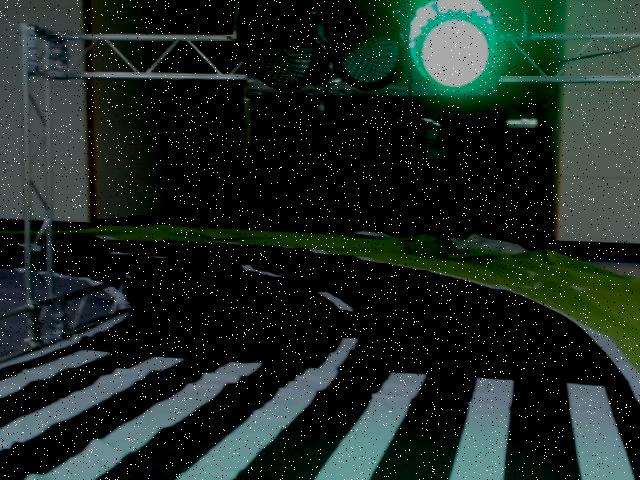crosswalk: (0, 346, 640, 480)
traffic light-green-: (239, 0, 500, 98)
